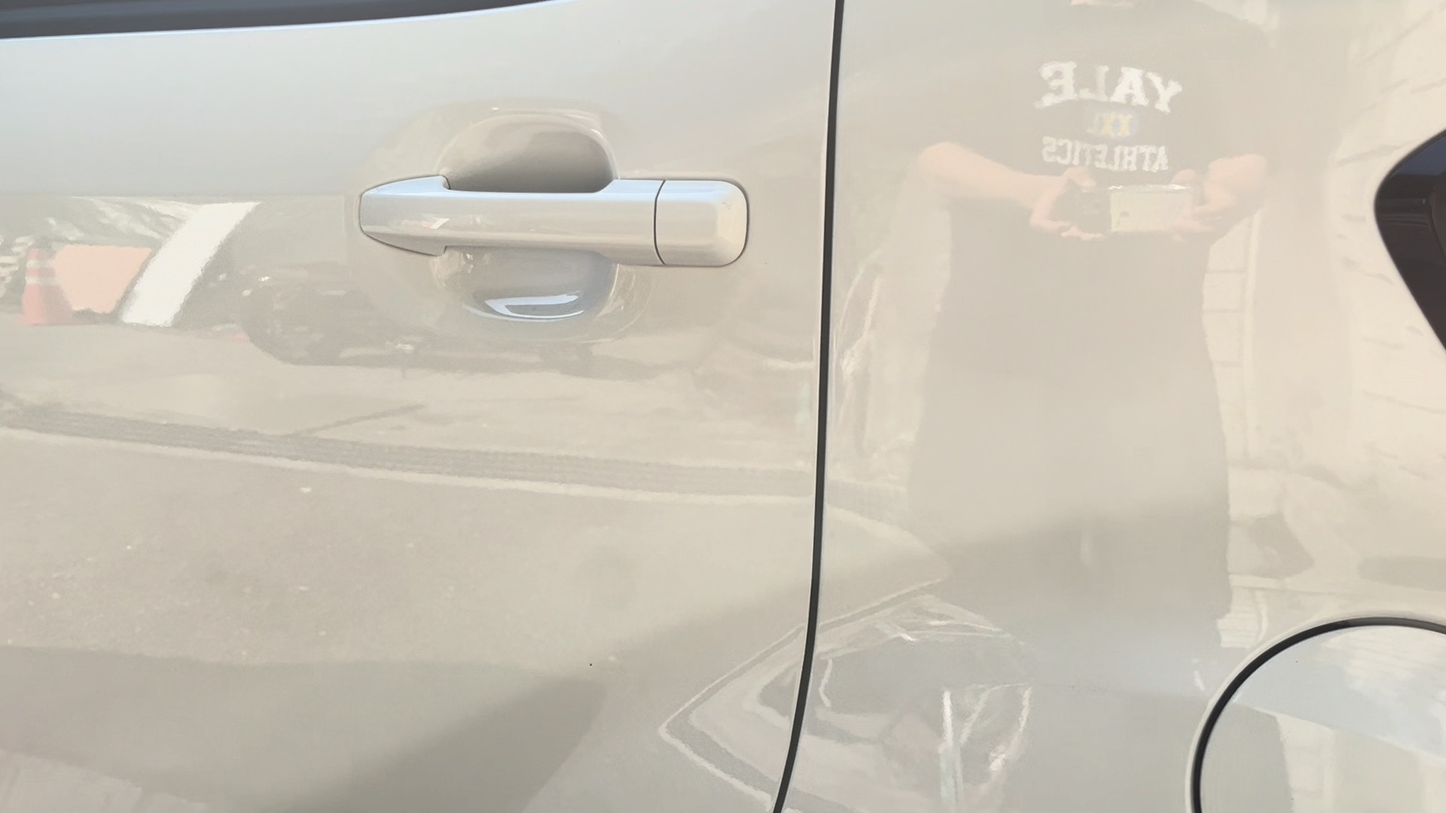door_handle: (361, 175, 748, 265)
